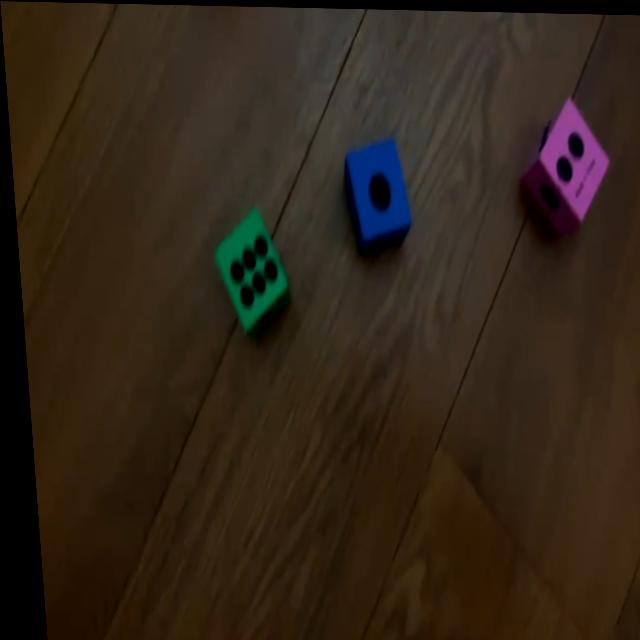blue_block: (338, 134, 409, 247)
